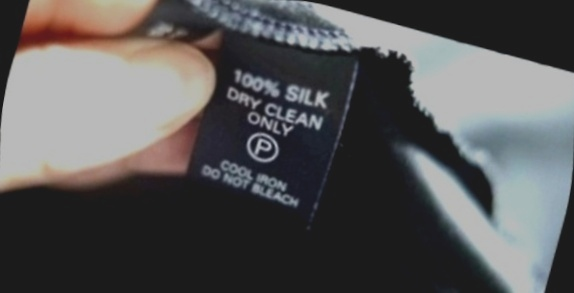dry_clean_any_solvent_except_trichloroethylene: (235, 119, 293, 175)
